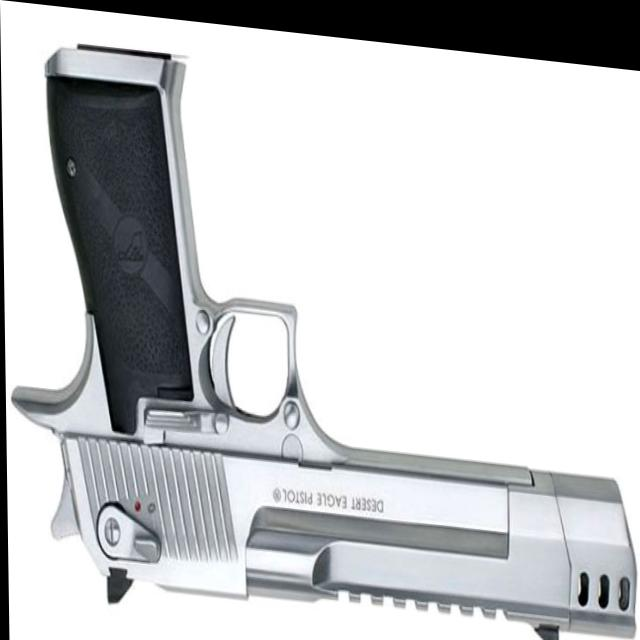handgun: (3, 23, 640, 640)
